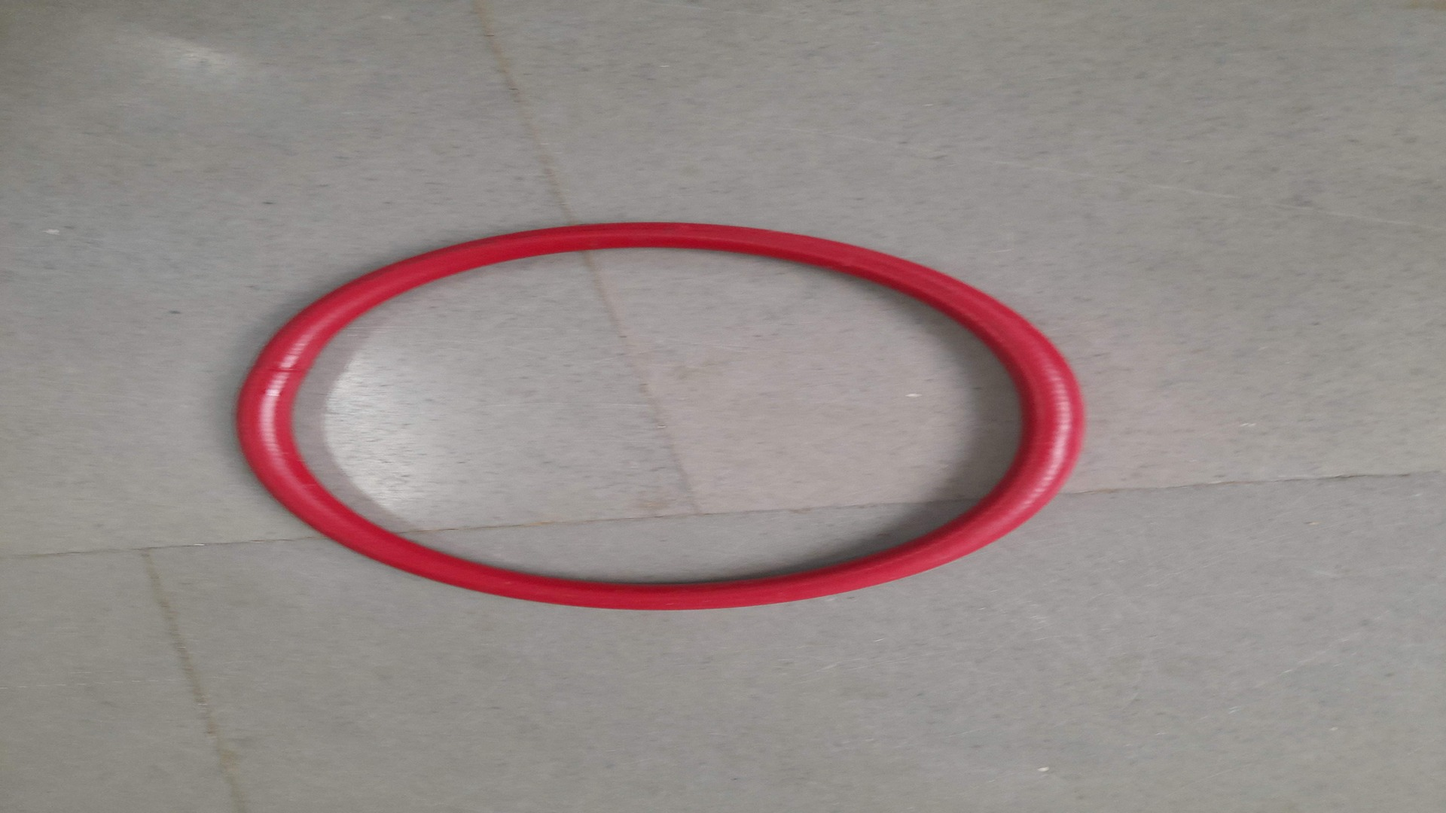Red ring: (235, 221, 1084, 614)
